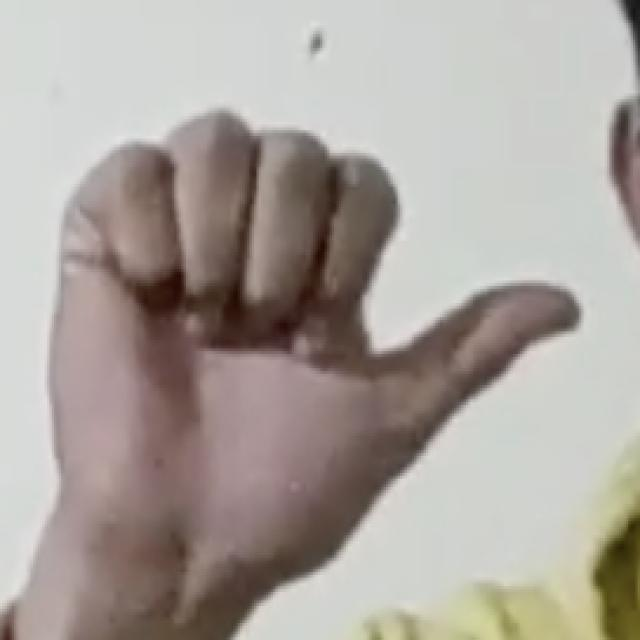A: (41, 89, 586, 578)
